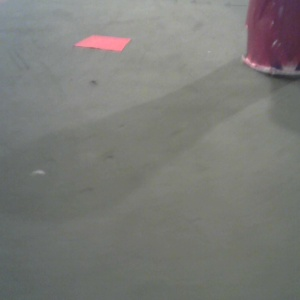middle: (79, 1, 144, 56)
